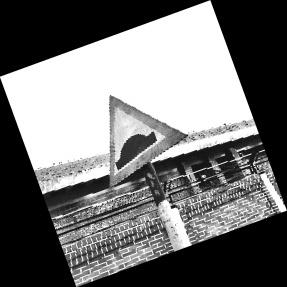Speed-breaker: (104, 90, 182, 182)
